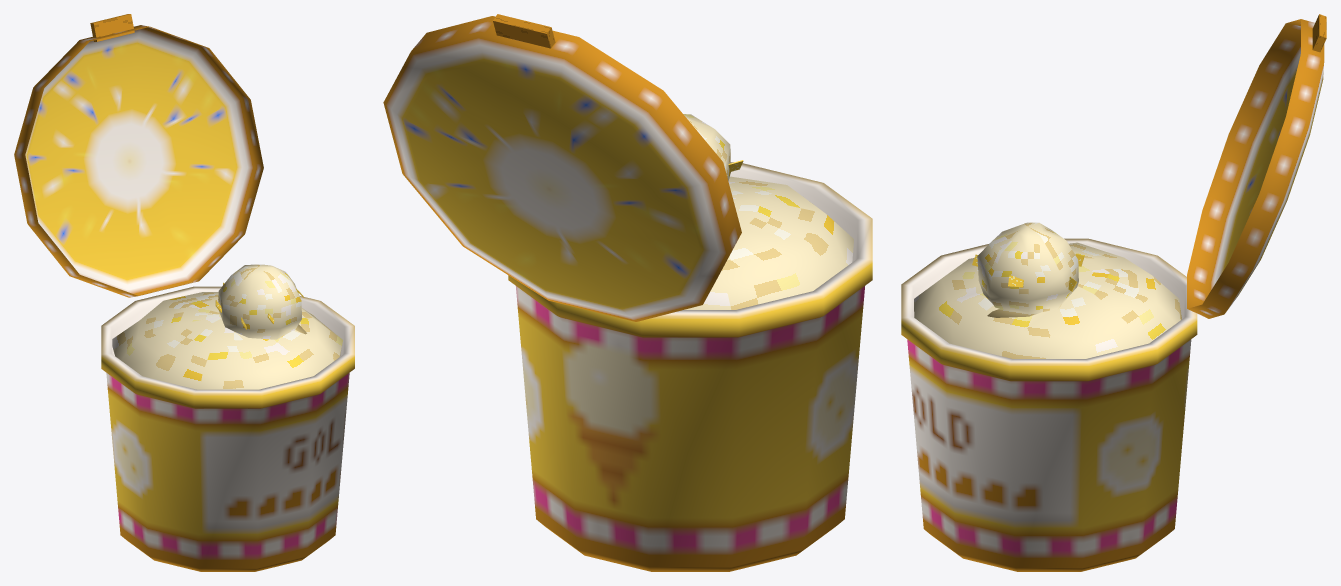
File: Flavor Tub Gold Leaf.fbx
3 views of the same model, side by side, from view 1: azimuth 30°, elevation 25°; view 2: azimuth 150°, elevation 25°; view 3: azimuth 270°, elevation 25° (orthographic). The views are drawn at different scales.
Parts seen in each view (by area): view 1: Flavor Tub Gold Leaf lid, Flavor Tub Gold Leaf tub, Flavor Tub Gold Leaf ice cream, Flavor Tub Gold Leaf swirl, Flavor Tub Gold Leaf lid tab; view 2: Flavor Tub Gold Leaf tub, Flavor Tub Gold Leaf lid, Flavor Tub Gold Leaf ice cream, Flavor Tub Gold Leaf lid tab, Flavor Tub Gold Leaf swirl; view 3: Flavor Tub Gold Leaf tub, Flavor Tub Gold Leaf lid, Flavor Tub Gold Leaf ice cream, Flavor Tub Gold Leaf swirl.
Boxes of the visible parts, <box> form: Flavor Tub Gold Leaf lid: <box>14,25,263,297</box>; Flavor Tub Gold Leaf tub: <box>101,286,354,571</box>; Flavor Tub Gold Leaf ice cream: <box>112,292,342,389</box>; Flavor Tub Gold Leaf swirl: <box>218,264,306,339</box>; Flavor Tub Gold Leaf lid tab: <box>90,14,134,41</box>; Flavor Tub Gold Leaf tub: <box>508,162,872,571</box>; Flavor Tub Gold Leaf lid: <box>383,16,741,321</box>; Flavor Tub Gold Leaf ice cream: <box>684,176,853,309</box>; Flavor Tub Gold Leaf lid tab: <box>493,14,555,48</box>; Flavor Tub Gold Leaf swirl: <box>683,114,730,180</box>; Flavor Tub Gold Leaf tub: <box>901,238,1197,571</box>; Flavor Tub Gold Leaf lid: <box>1187,19,1324,318</box>; Flavor Tub Gold Leaf ice cream: <box>914,242,1181,358</box>; Flavor Tub Gold Leaf swirl: <box>977,222,1078,317</box>.
Size of the model in its own units: 0.3033 by 0.5406 by 0.4191.
5 materials, 5 textured.
